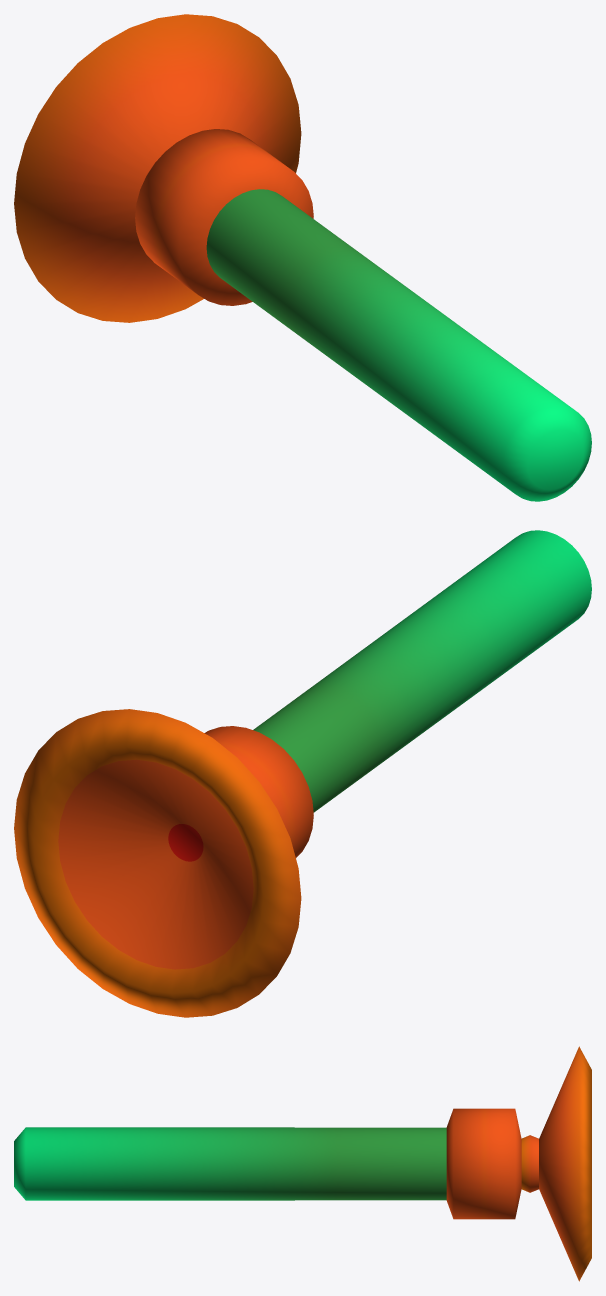
Rendered from DartBullet.fbx.
3 renders of one model, top to bottom at view 1: azimuth 30°, elevation 25°; view 2: azimuth 150°, elevation 25°; view 3: azimuth 270°, elevation 25°, orthographic. The views are drawn at different scales.
Visible parts, largest first — view 1: Dart; view 2: Dart; view 3: Dart.
Boxes of the visible parts, x1=… form: Dart: x1=14, y1=14, x2=591, y2=501; Dart: x1=14, y1=530, x2=591, y2=1017; Dart: x1=14, y1=1046, x2=591, y2=1281.
Size of the model in its own units: 0.1785 by 0.1785 by 0.4376.
